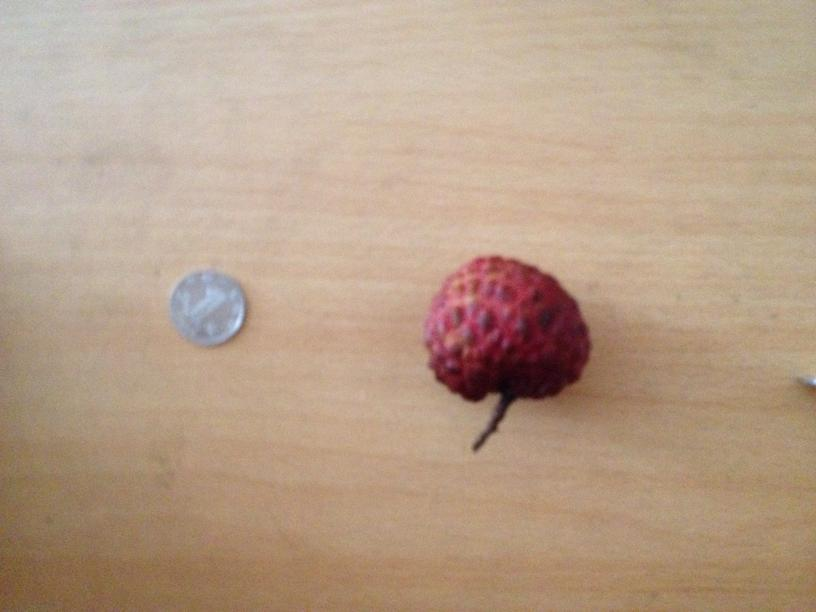coin: (166, 267, 246, 348)
litchi: (420, 257, 592, 400)
